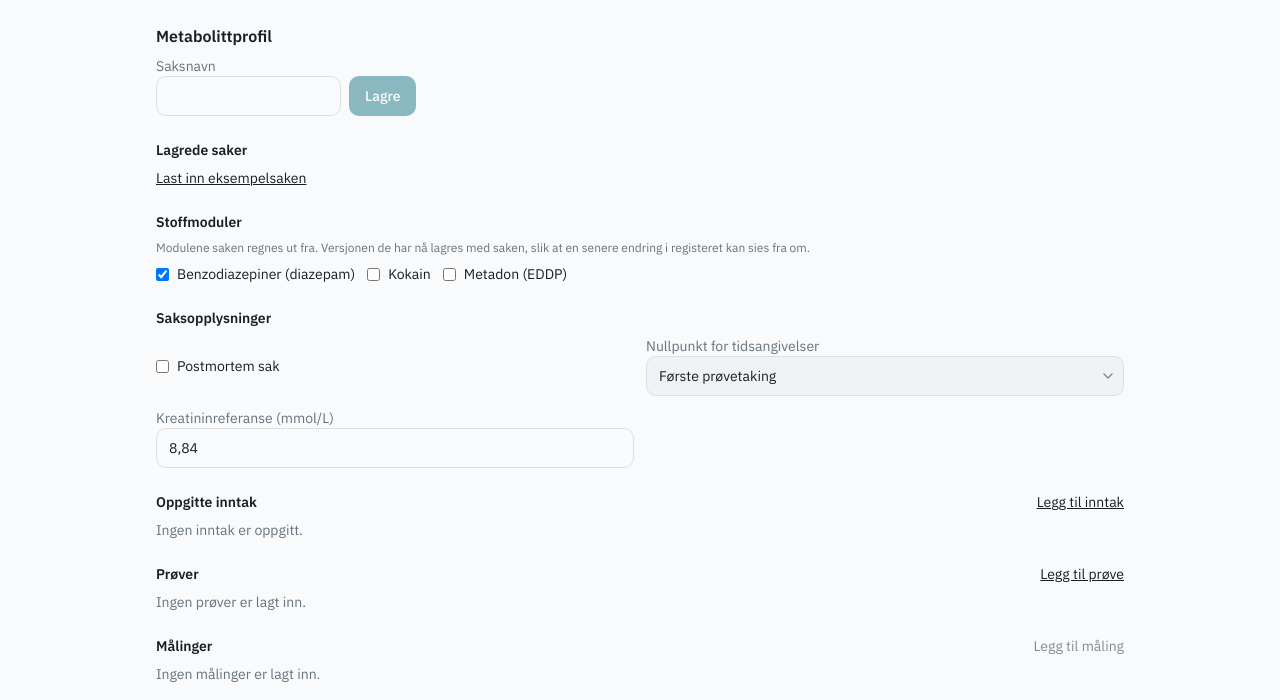
Scenario: the pattern case route › says why a case could not be filed, in the reader’s language
Step 1. Type "Ny sak" into the field labelled "Saksnavn" → (248, 96), box [156, 76, 341, 116]
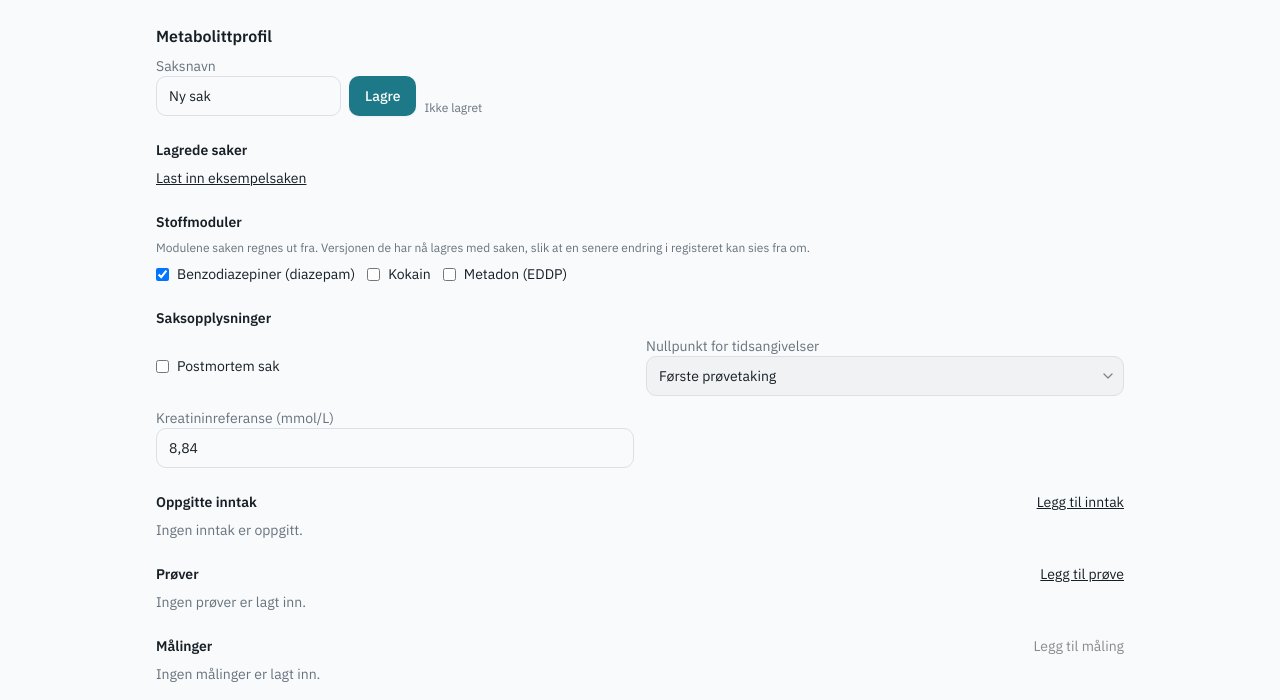
Step 2. Click the button "Legg til prøve" → click(1082, 574), box [1040, 564, 1124, 584]
(page scrolled)
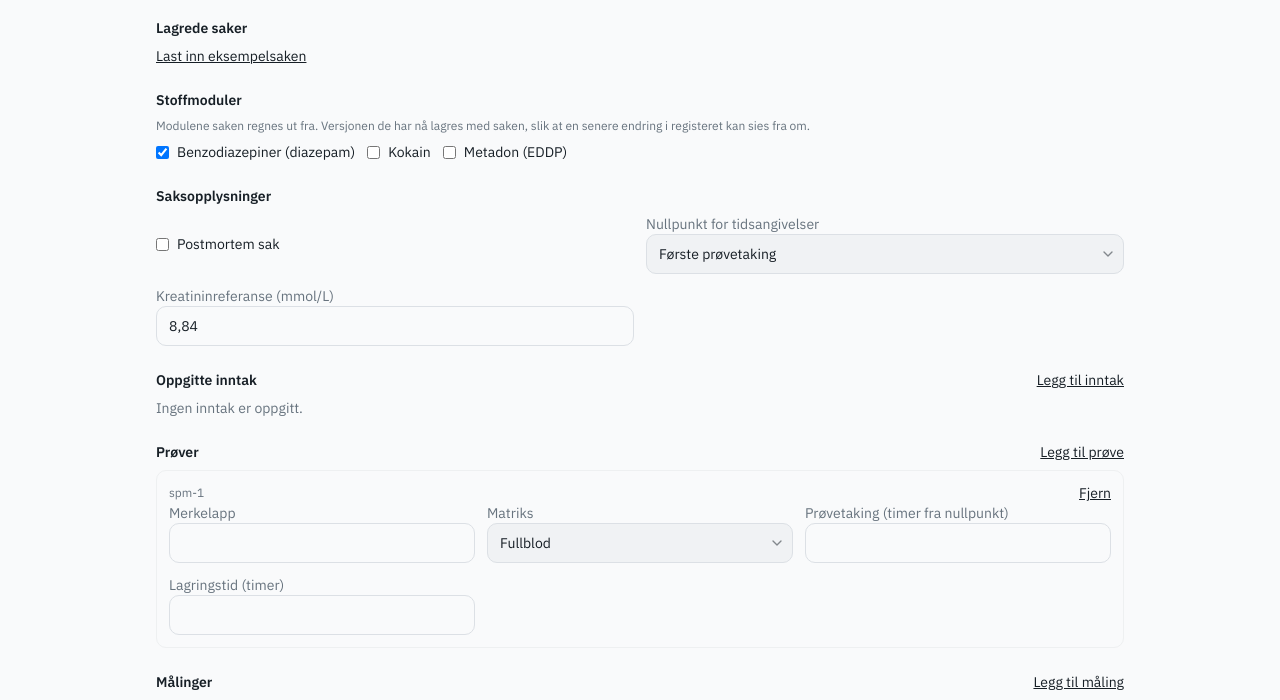
Step 3. Click the button "Legg til måling" → click(1079, 682), box [1033, 672, 1124, 692]
(page scrolled)
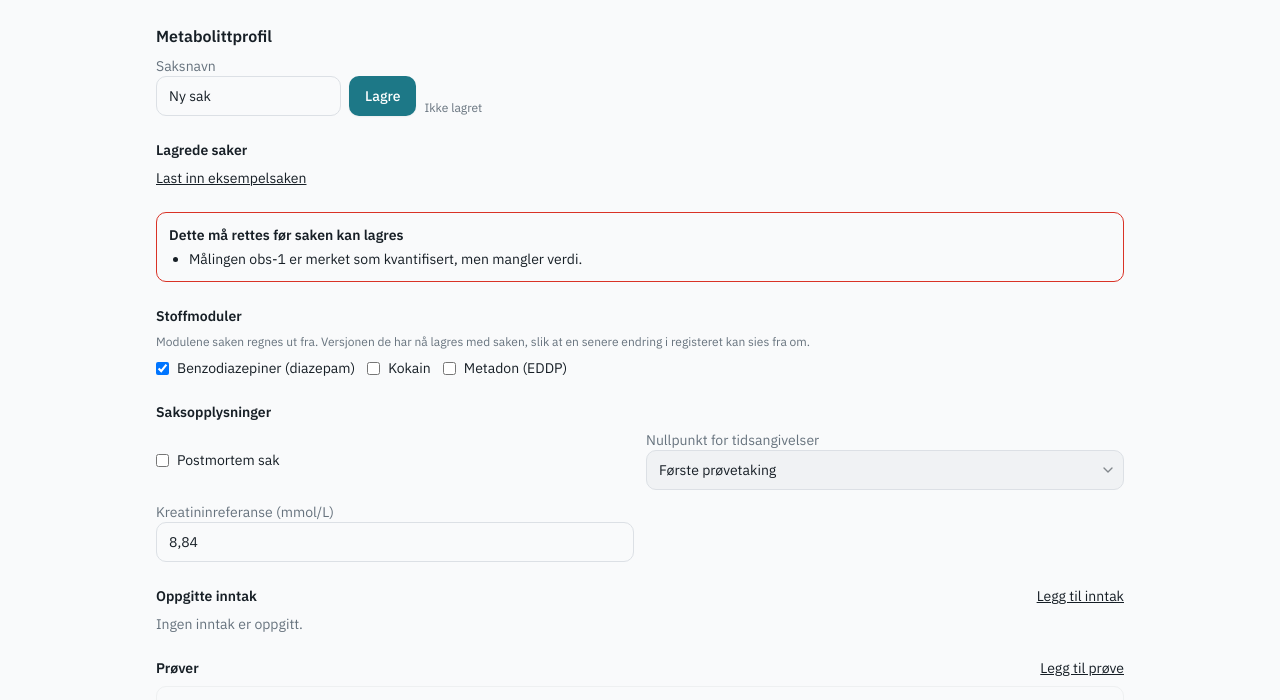
Step 4. Click the button "Lagre" → click(383, 96), box [349, 76, 416, 116]
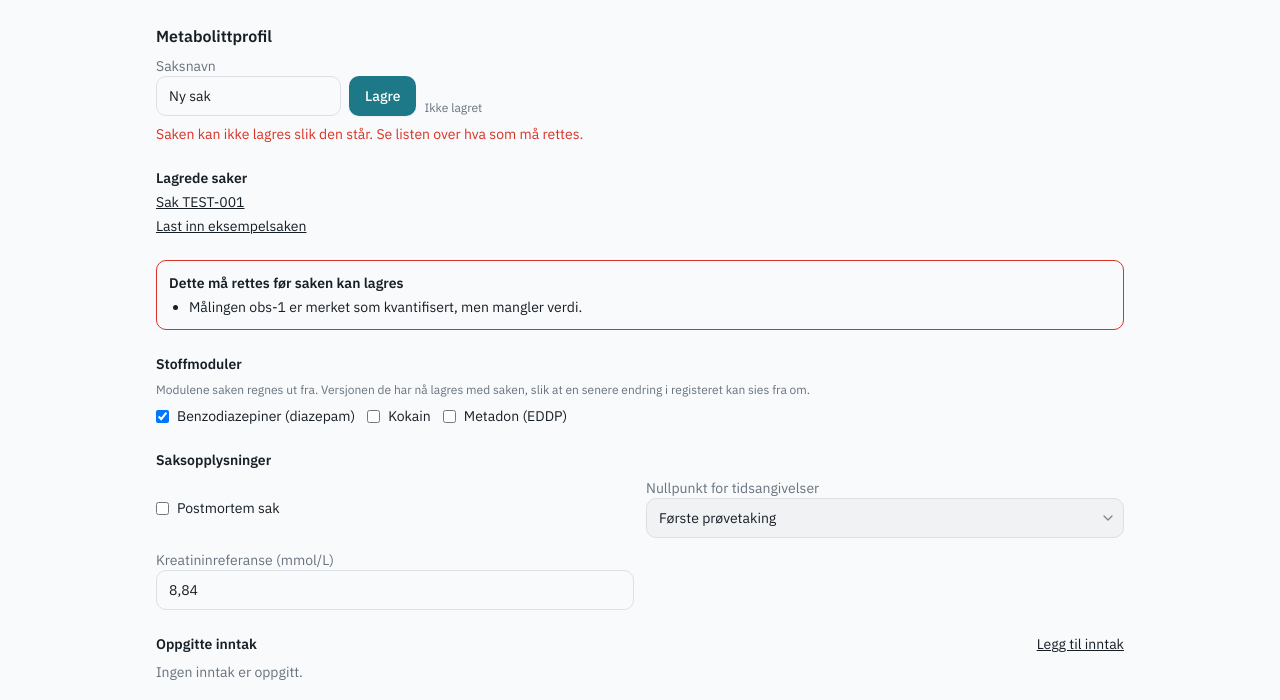
Expected: the text "Saken kan ikke lagres slik den står" is shown, [156, 125, 583, 143]
